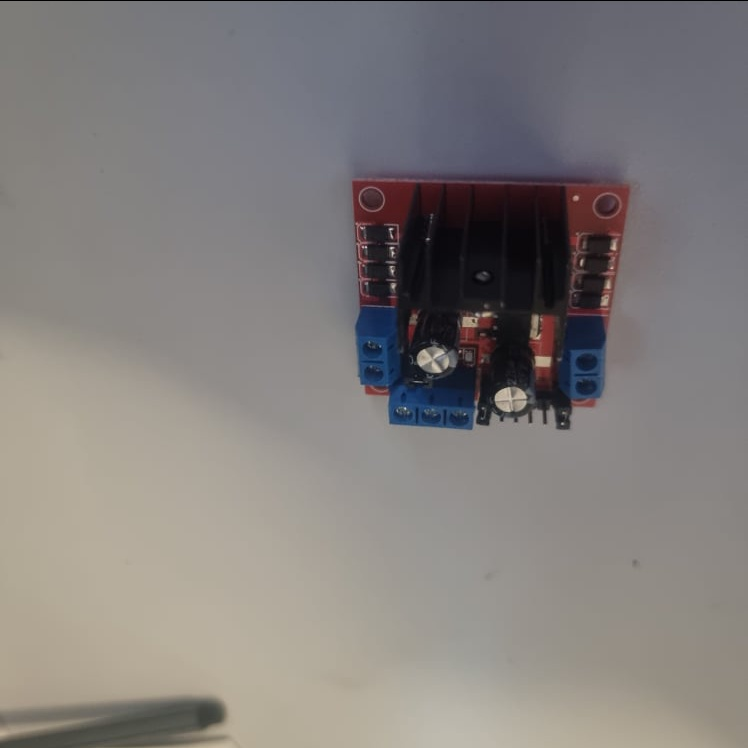MOTOR: (354, 173, 634, 436)
